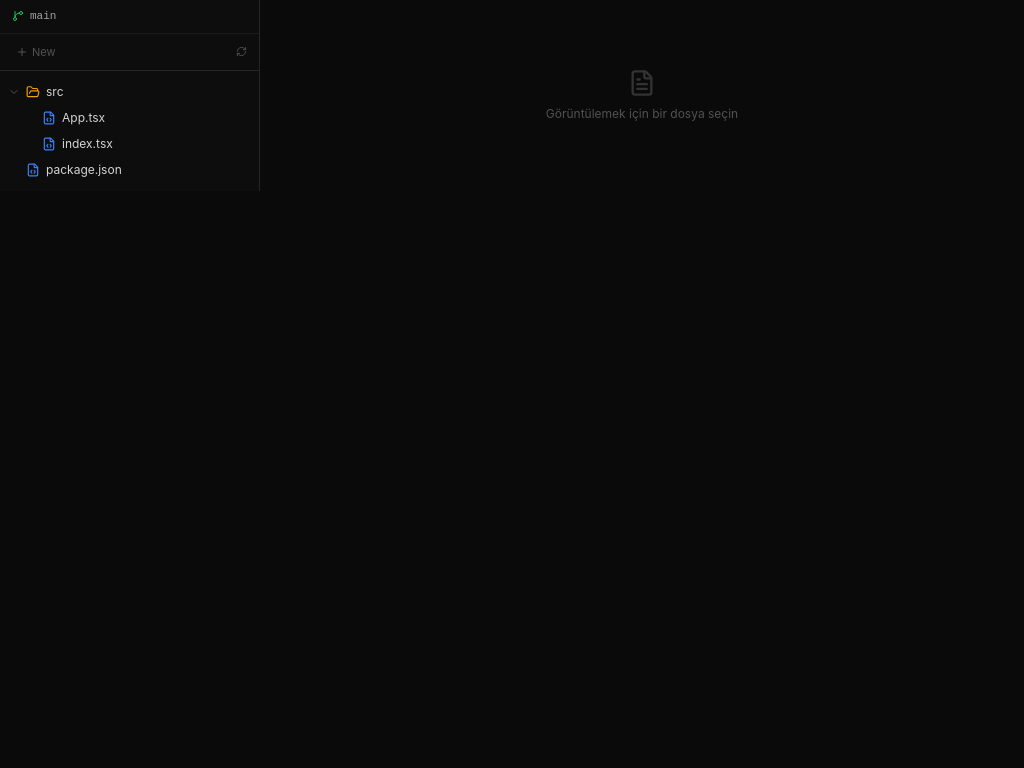
Scenario: FileExplorer — yeni dosya olusturma › "Yeni" butonuna tiklaninca dosya olusturma modali acilmali
This screenshot has width=1024, height=768.
expect the text "New" is shown: met, box [32,44,56,60]
Click the button "New" at [36, 52], box [8,40,64,64]
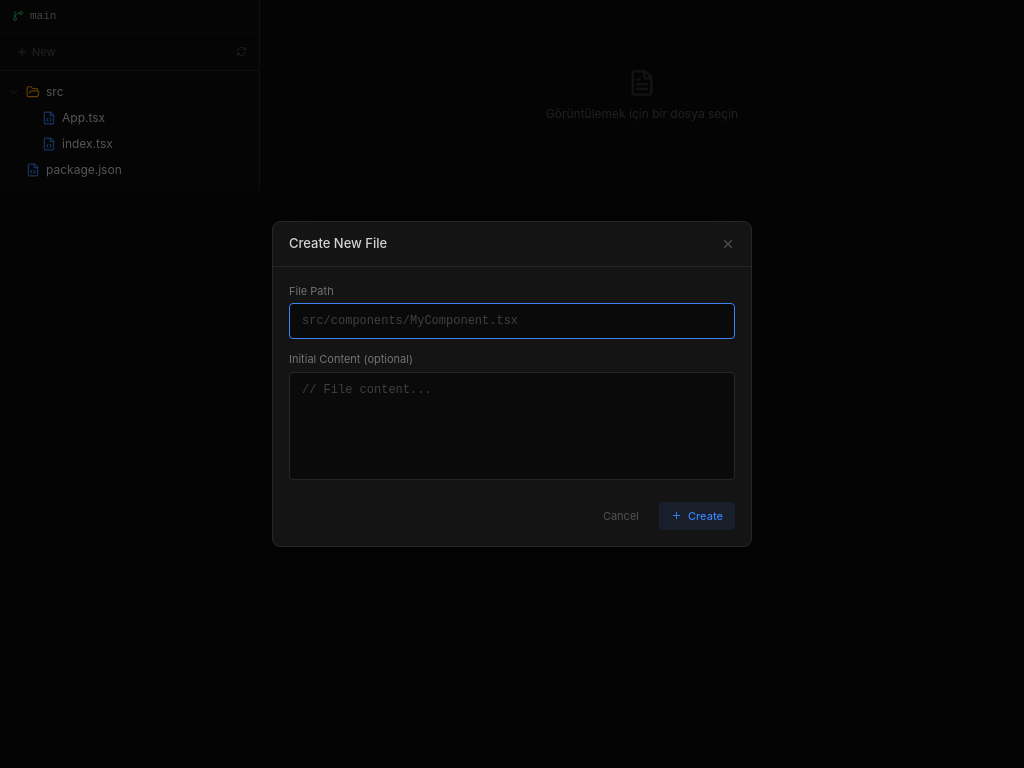
expect the text "Create New File" is shown: met, box [289,234,387,254]
